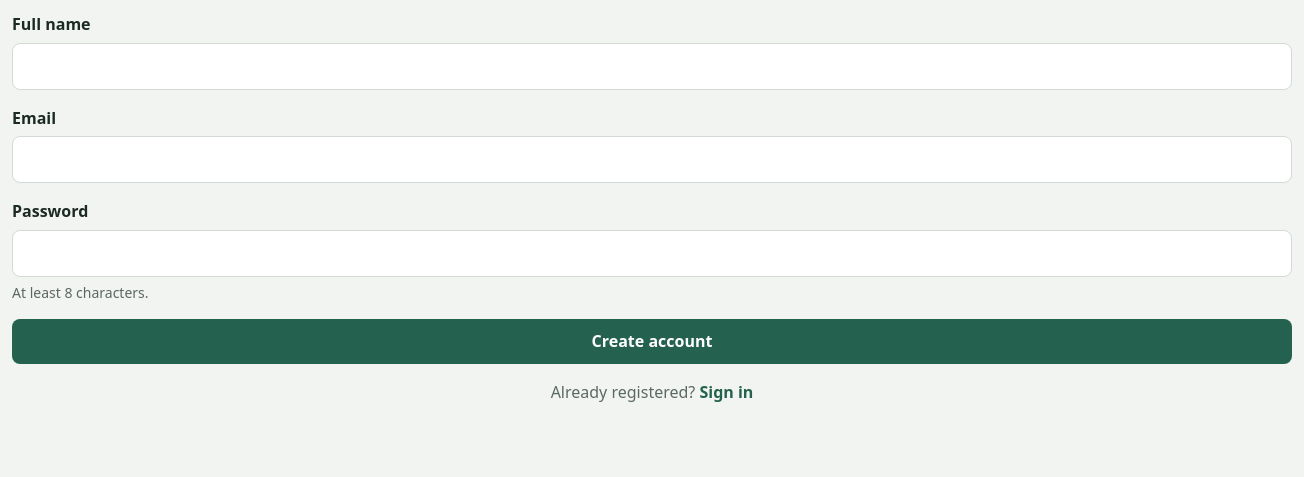
Test: RegisterForm › keeps what the user typed when the server rejects the form
Type "Petra Lane" into the field labelled "Full name" at (652,66), box top-left (12, 43), bottom-right (1292, 90)
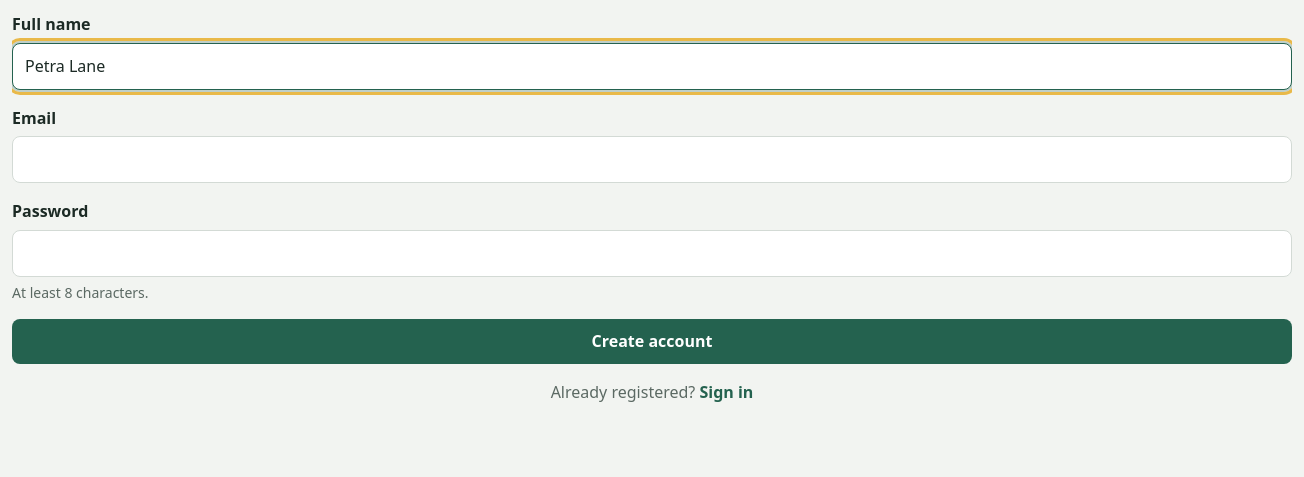
Type "petra@example.com" into the field labelled "Email" at (652,160), box top-left (12, 136), bottom-right (1292, 183)
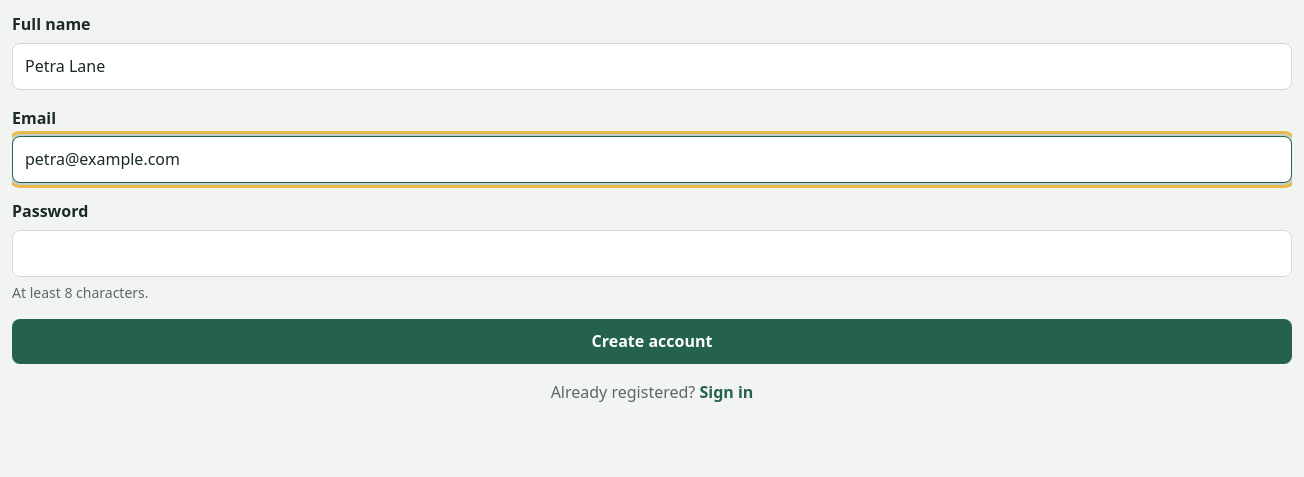
Type "short" into the password field labelled "Password" at (652,253), box top-left (12, 230), bottom-right (1292, 277)
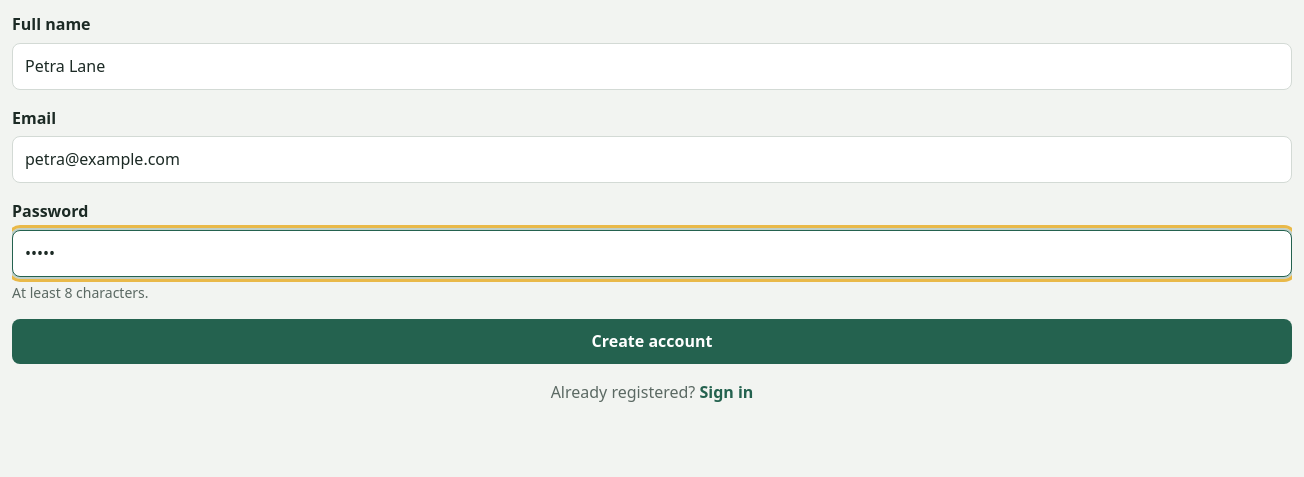
Click the button "Create account" at (652,341), box top-left (12, 319), bottom-right (1292, 364)
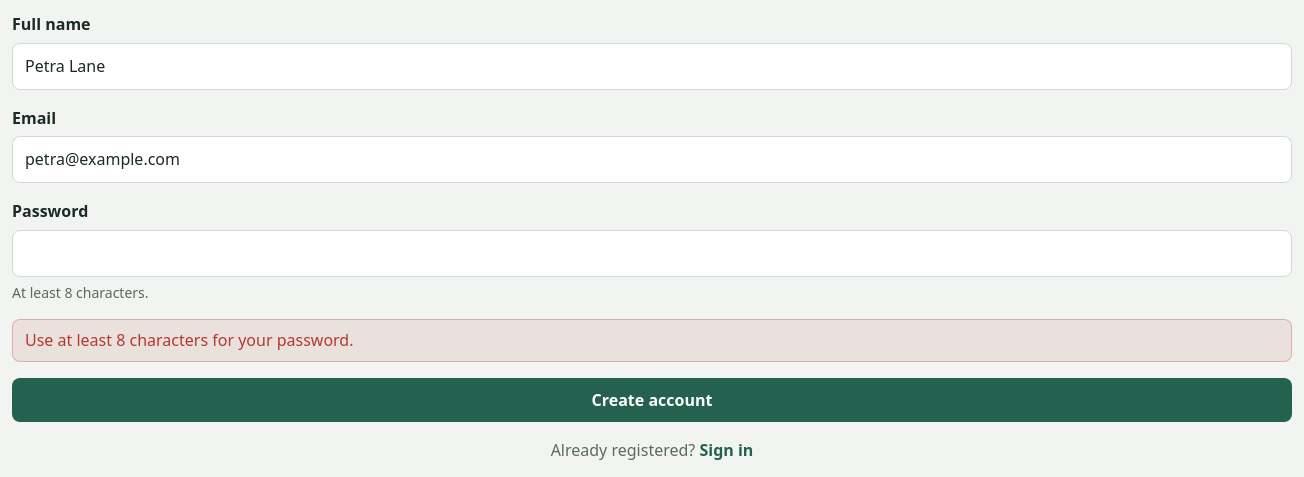
Expected: the message shows "Use at least 8 characters", top-left (25, 329), bottom-right (354, 351)
Expected: the password field labelled "Password" is empty, top-left (12, 230), bottom-right (1292, 277)
